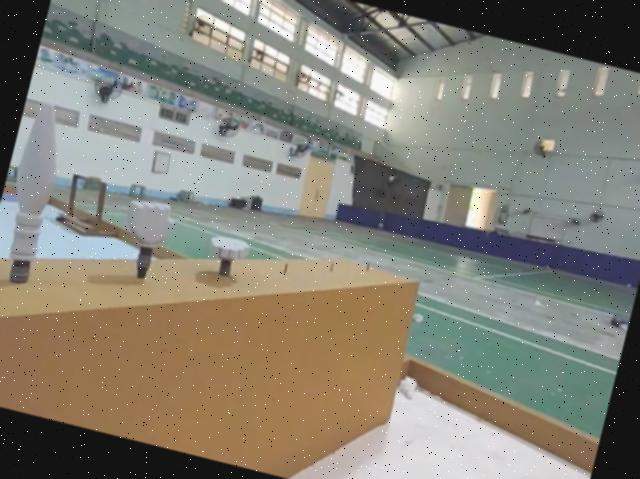Fist: (112, 190, 188, 288)
Hand: (203, 229, 256, 279)
Sph: (0, 97, 76, 295)
